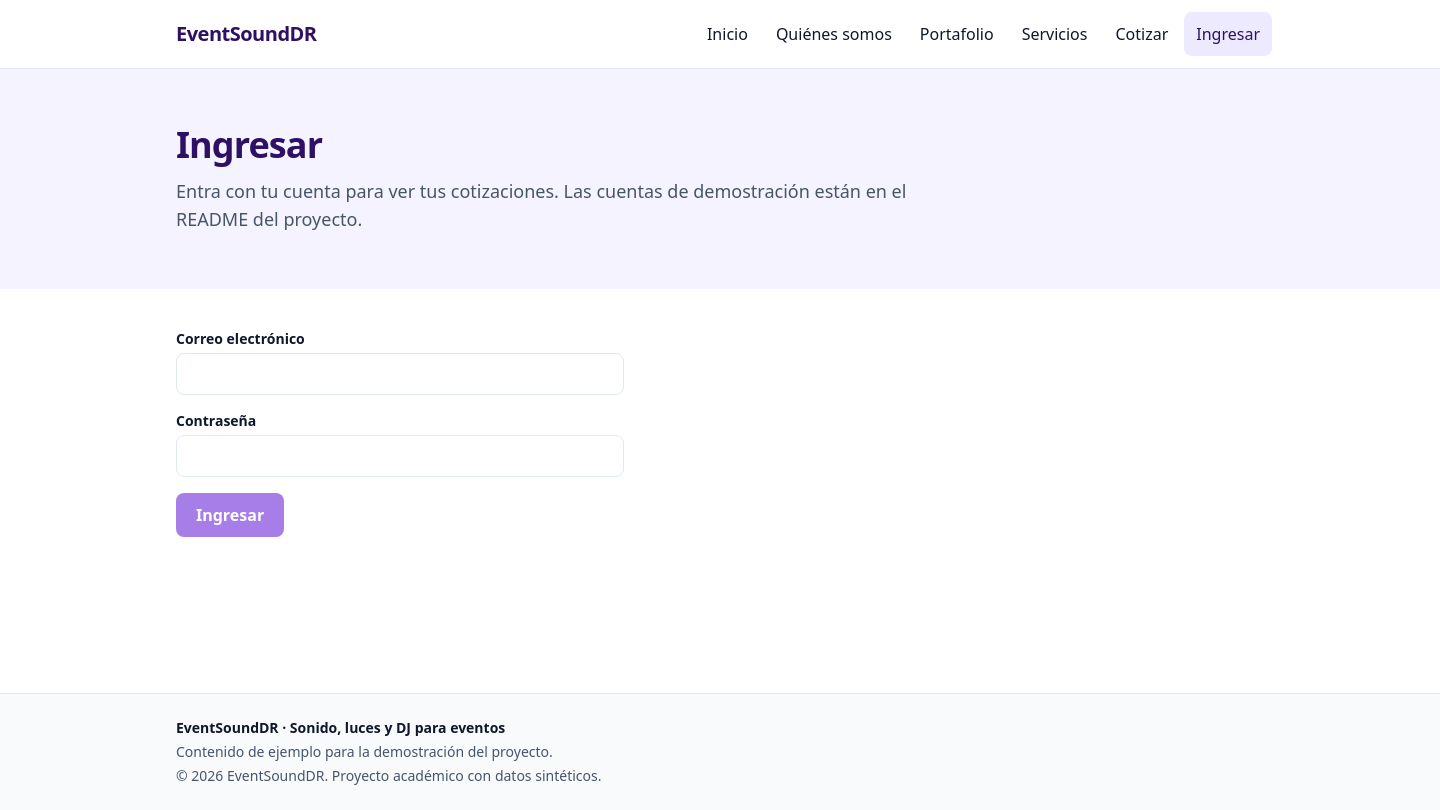
Test: sign in › tells the visitor how long to wait when attempts are limited
Type "limite@eventsounddr.example" into the field labelled "Correo electrónico".
click(400, 374); type("limite@eventsounddr.example")  # box x1=176 y1=353 x2=624 y2=395
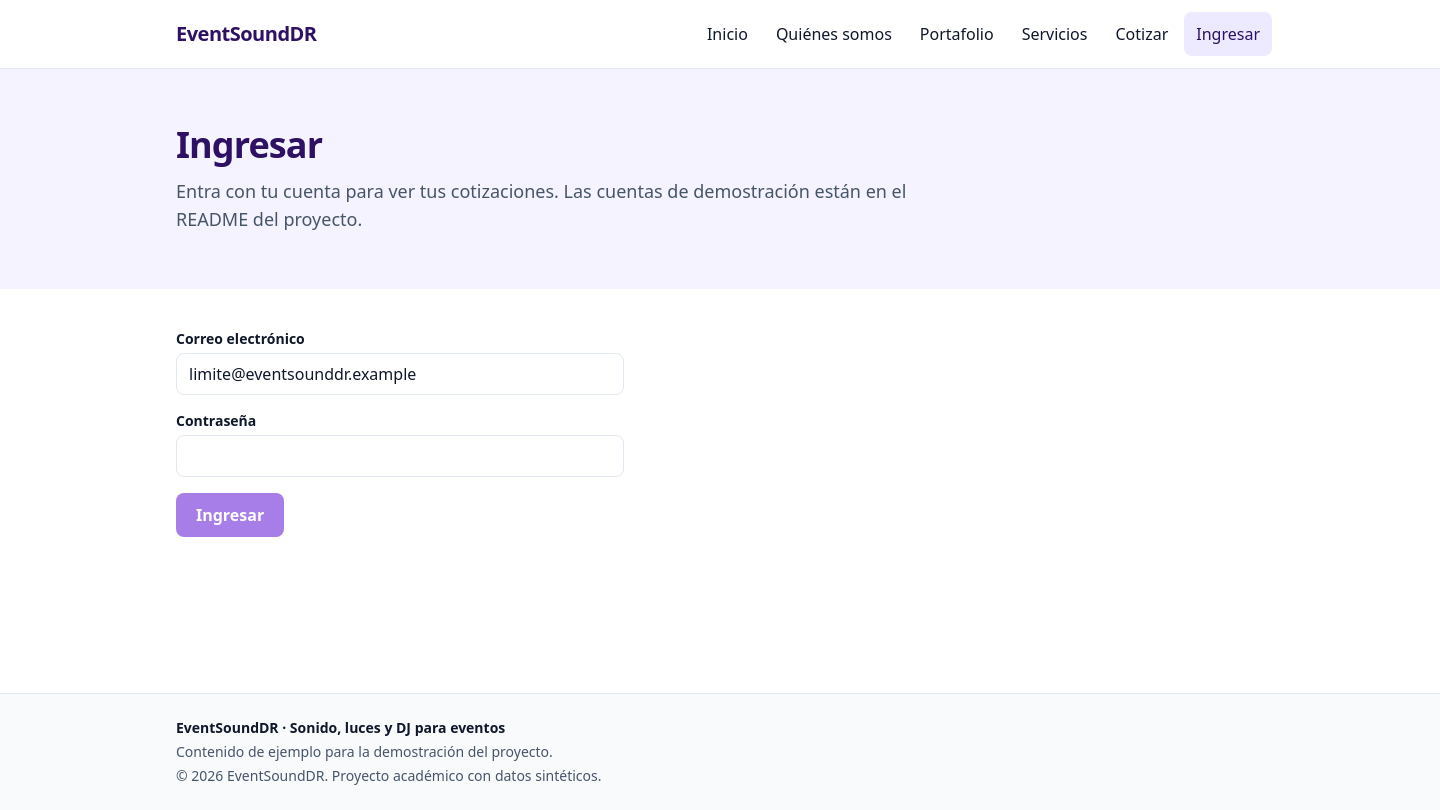
Type "demo-password" into the password field labelled "Contraseña".
click(400, 456); type("demo-password")  # box x1=176 y1=435 x2=624 y2=477
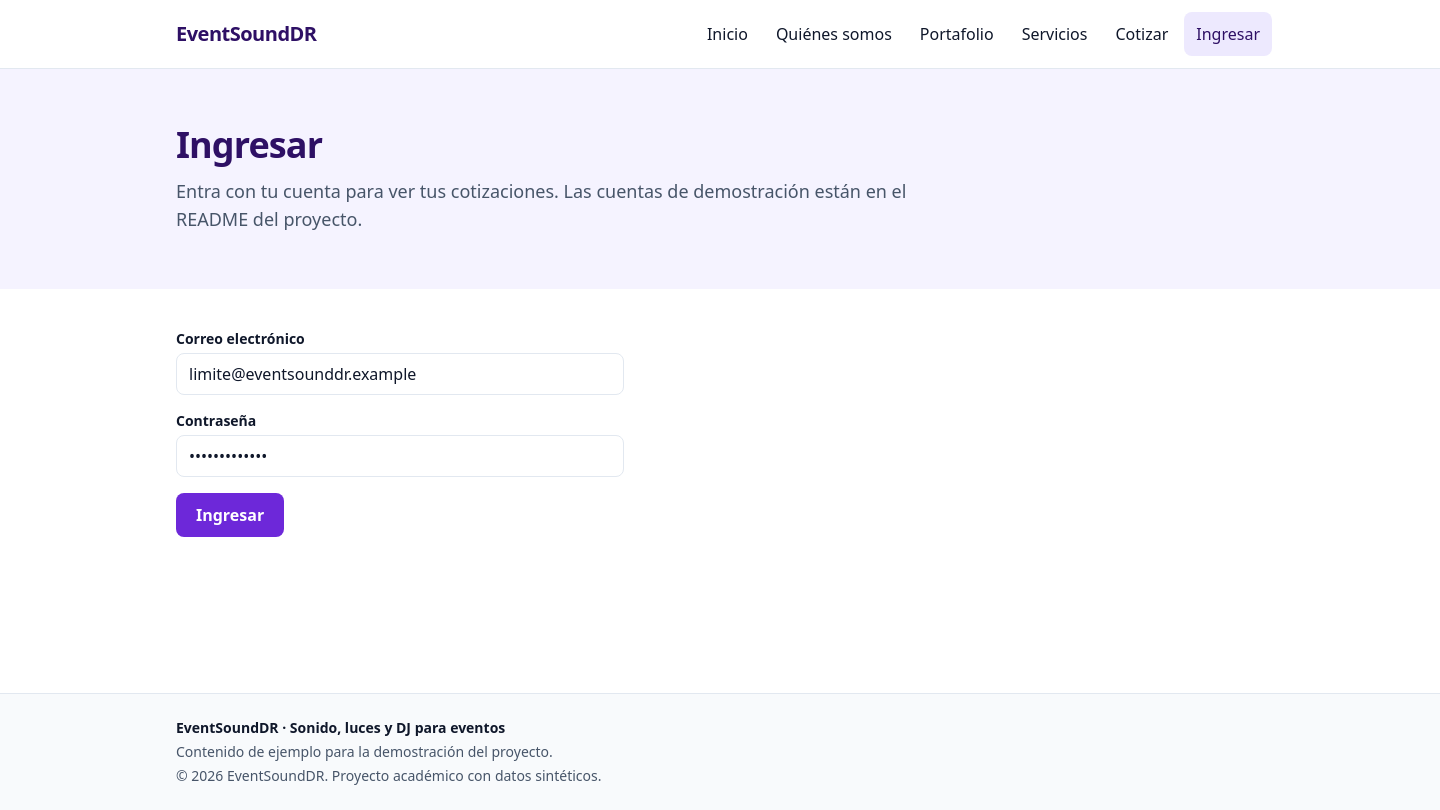
Click the button "Ingresar".
click(230, 515)  # box x1=176 y1=493 x2=284 y2=537
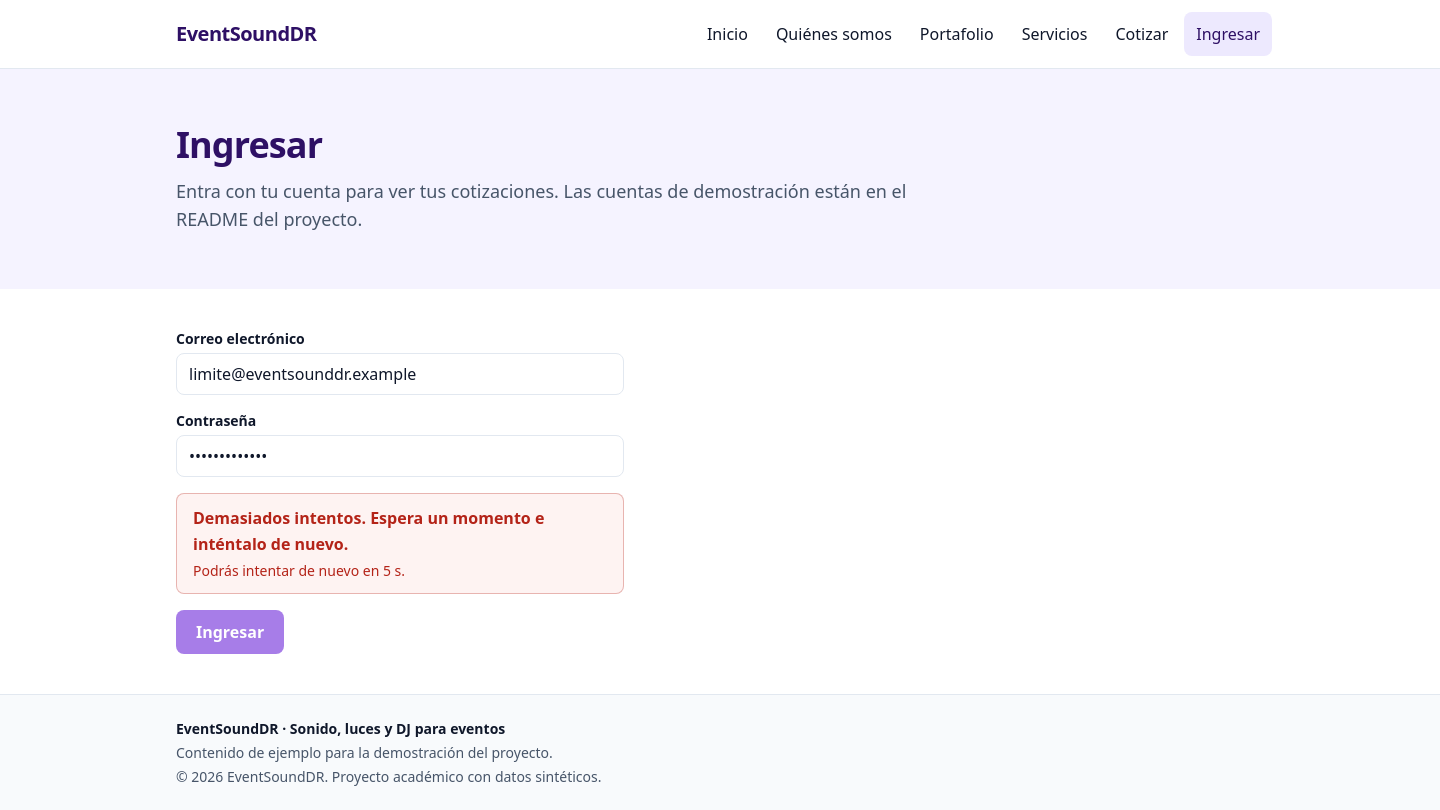
Check: the message shows "Demasiados intentos. Espera un momento e inténtalo de nuevo.", box x1=193 y1=507 x2=544 y2=555
Check: the button "Ingresar" is disabled, box x1=176 y1=610 x2=284 y2=654
